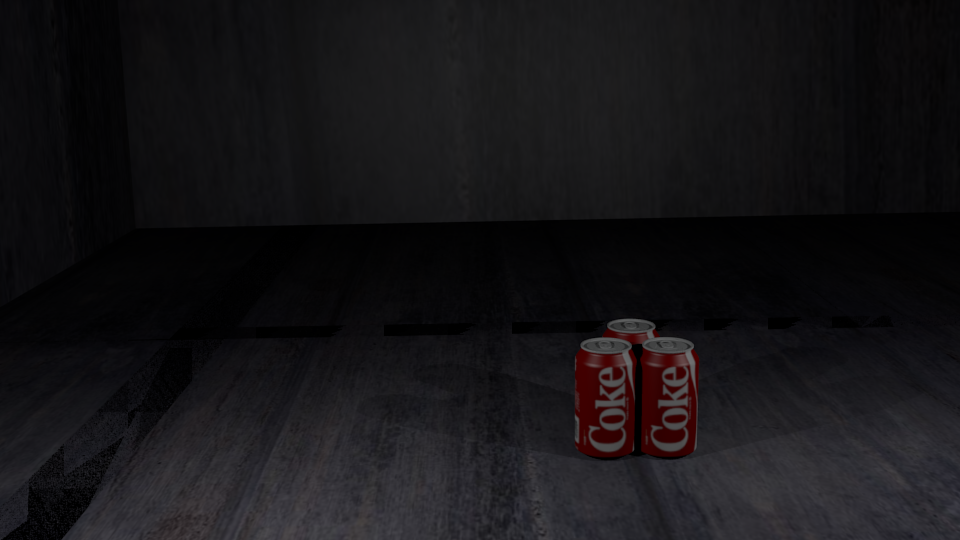cola_can: (636, 337, 698, 453), (575, 338, 636, 454), (603, 319, 659, 429)
